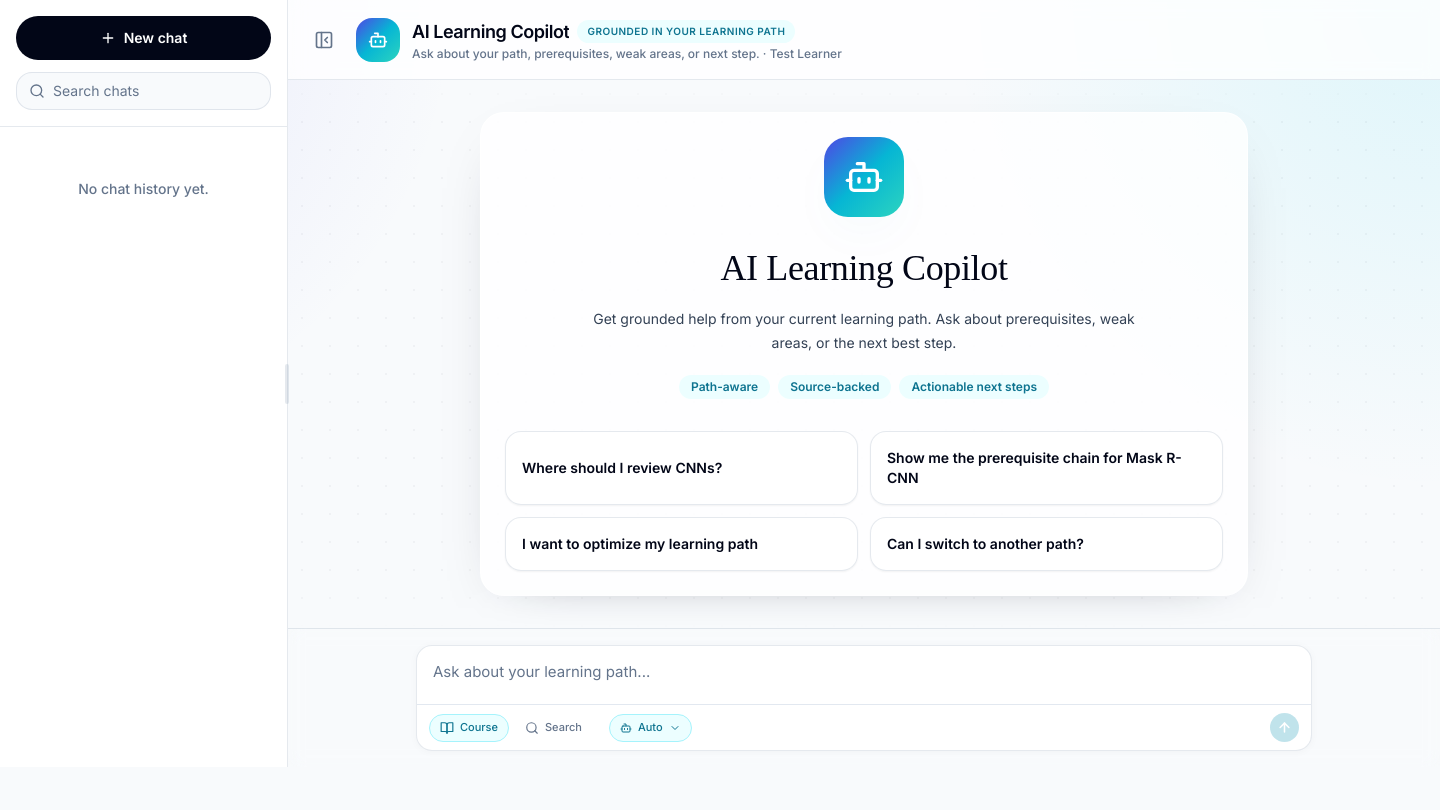
Test: agent page › opens prerequisite path units in the existing source sidebar before learning
In the text box with placeholder "Ask about your learning path...": (864, 672) [417,646,1311,698], type "Explain Mask R-CNN"
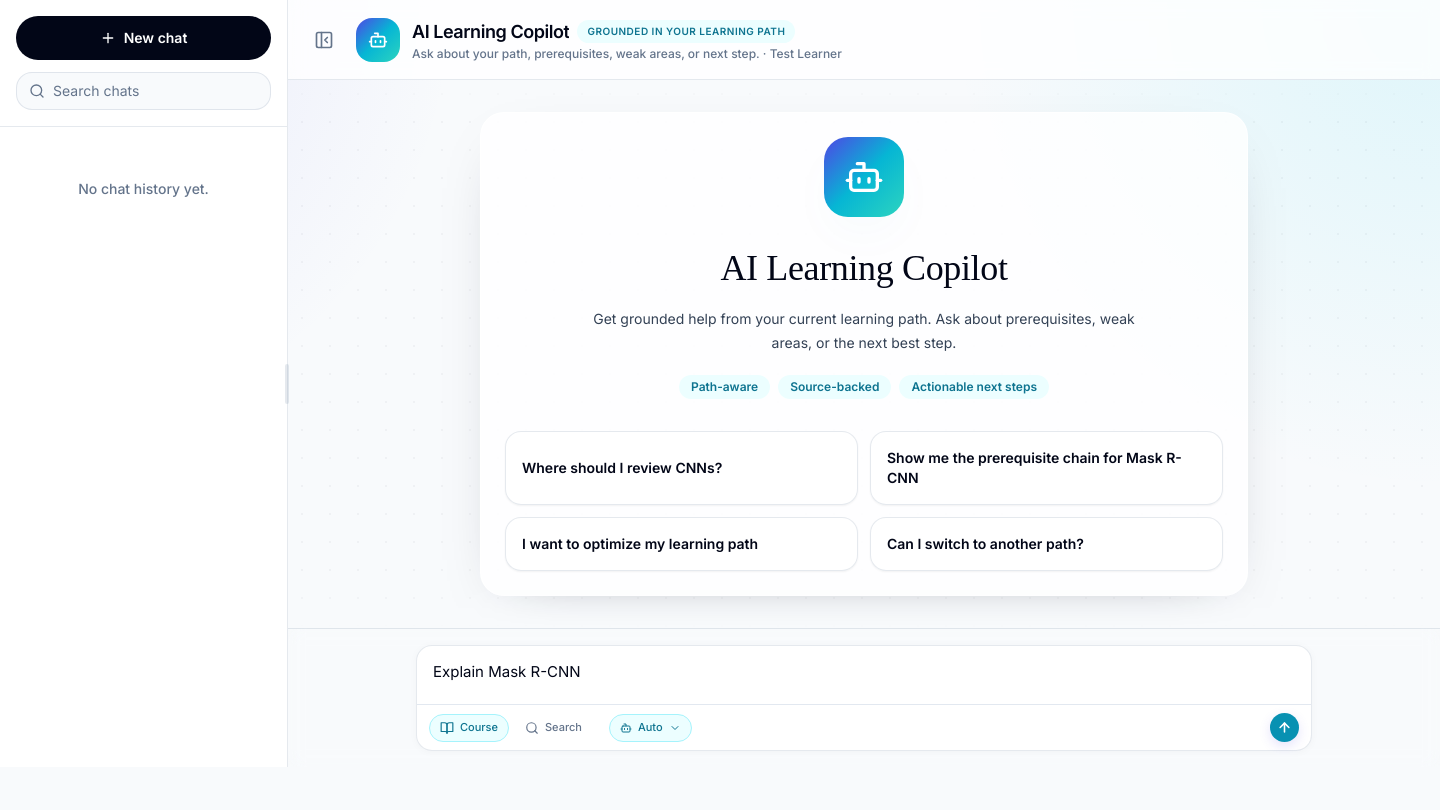
Click the button named "send message": (1284, 728) [1270,713,1299,742]
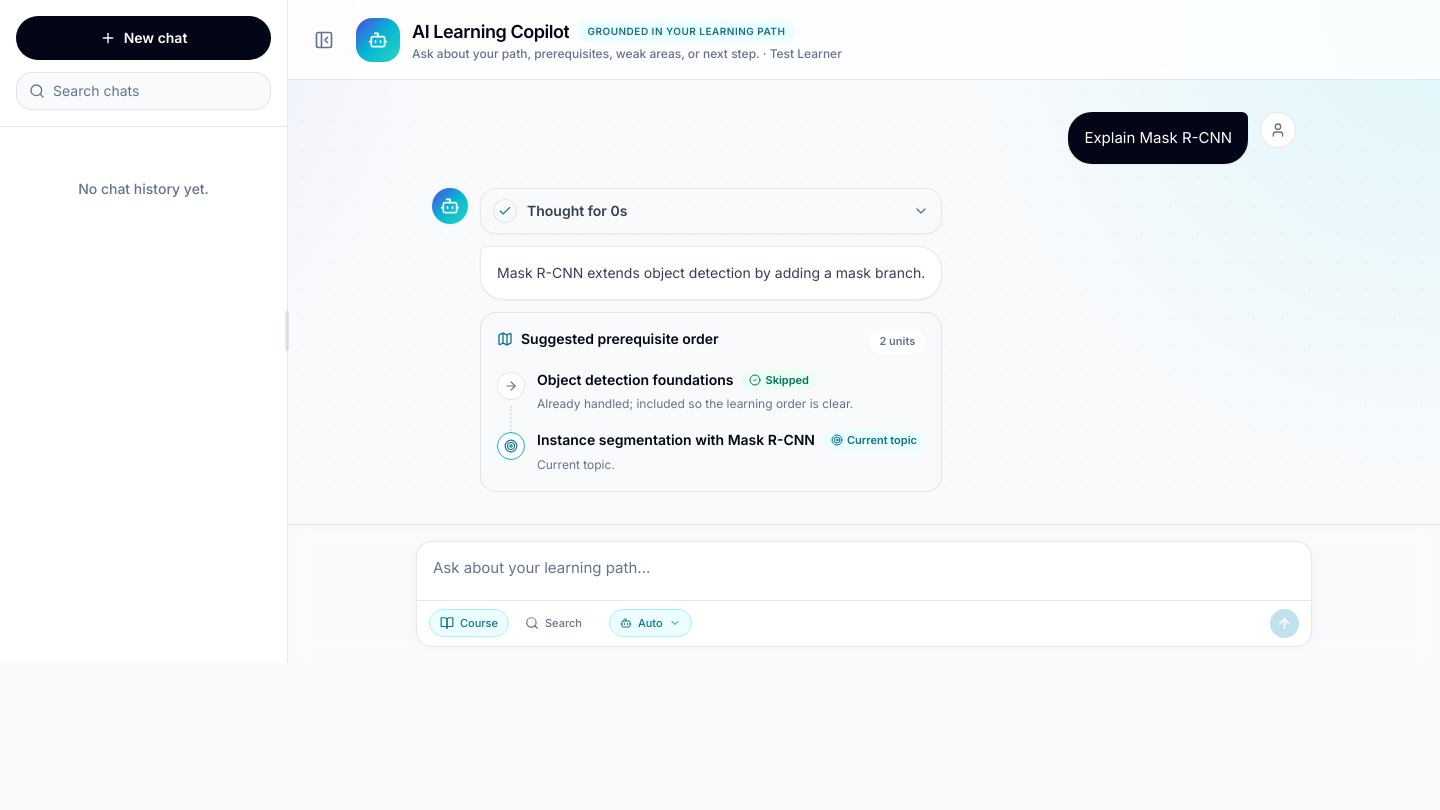
Now the text "Suggested prerequisite order" is shown, box [497,329,719,349]
Now the text "Skipped" is shown, box [742,370,817,390]
Now the text "Current topic" is shown, box [823,430,925,450]
Click the button with aria-label "view source details: object detection foundations": (635, 380) [537,370,734,390]
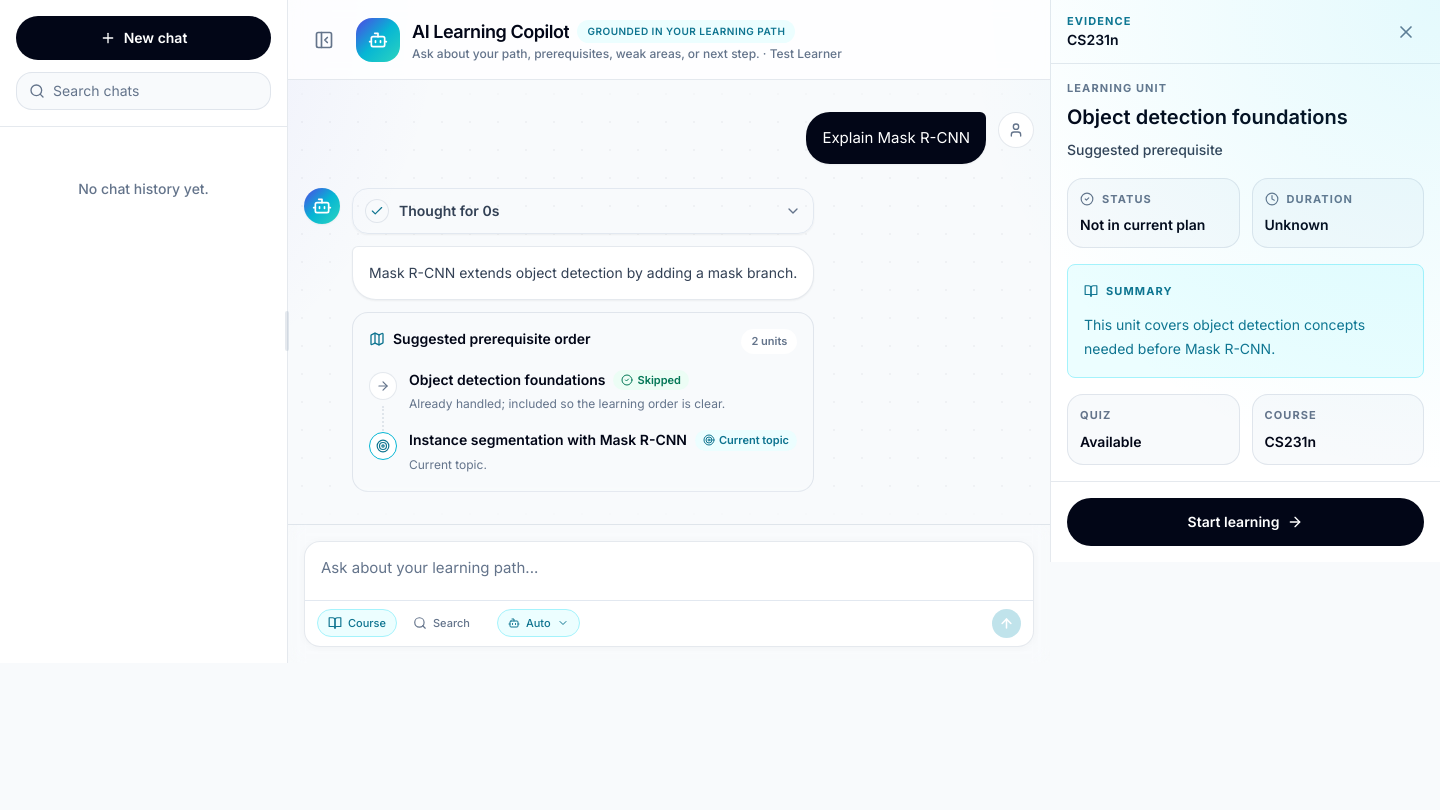
Now the text "Evidence" is shown 2 times
